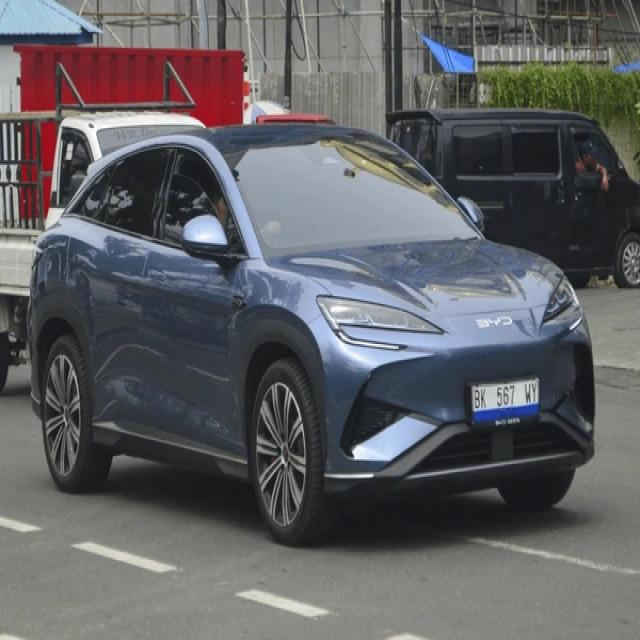byd: (474, 308, 514, 339)
